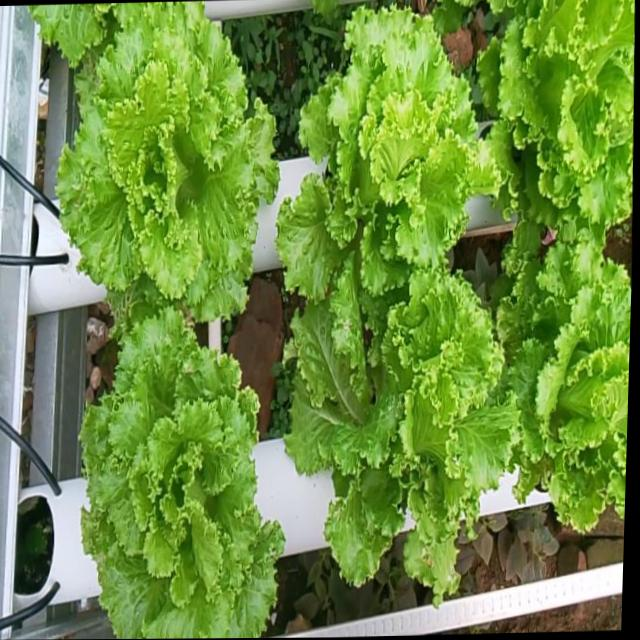Mature: (28, 1, 276, 333), (281, 266, 514, 598), (272, 7, 495, 336), (76, 309, 281, 639), (476, 0, 634, 248), (498, 247, 631, 532)
